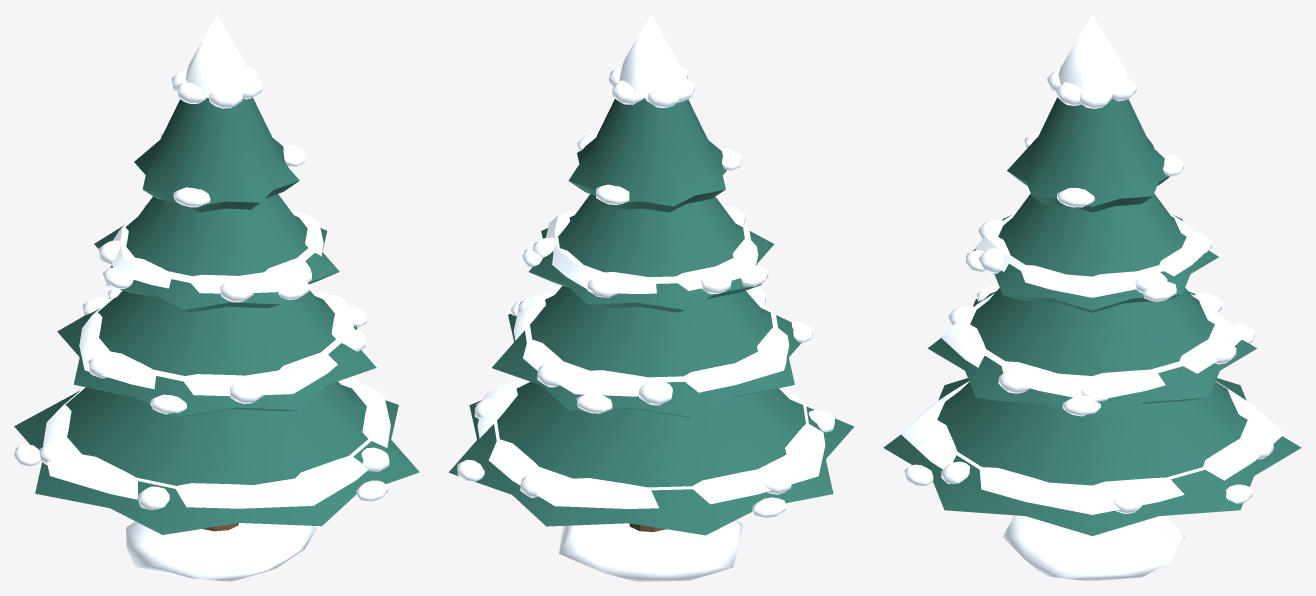
Rendered from pine_snowy.glb.
3 renders of one model, left to right at view 1: azimuth 30°, elevation 25°; view 2: azimuth 150°, elevation 25°; view 3: azimuth 270°, elevation 25°, orthographic.
Parts seen in each view (by area): view 1: pine_snowy; view 2: pine_snowy; view 3: pine_snowy.
Part boxes in pixels (left/top/right/bottom): pine_snowy: left=14, top=14, right=419, bottom=581; pine_snowy: left=449, top=14, right=854, bottom=581; pine_snowy: left=883, top=14, right=1301, bottom=581.
Bounding box in the file's own units: 1.45 × 2.07 × 1.45.
